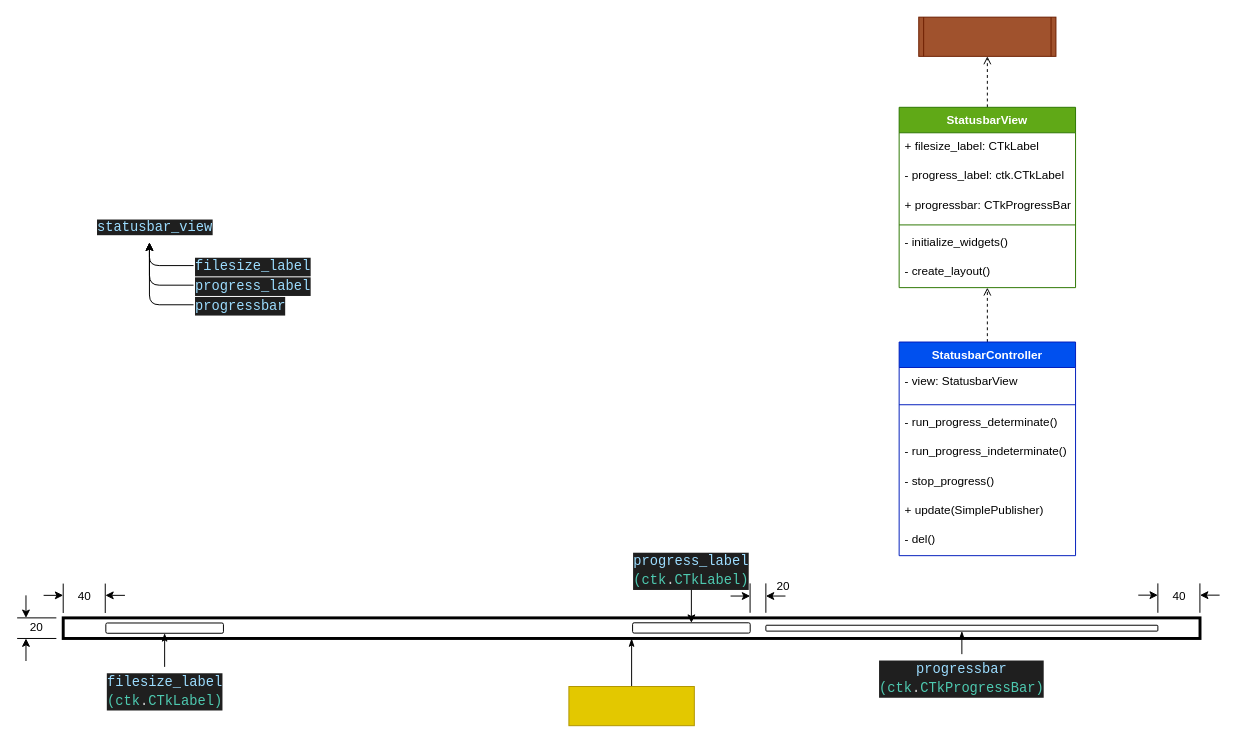
Some shapes in this 1245 by 743 pixel diagram are drawn without their labels. The shapes that lost their labels are listed below. From the top down, each one's centre as x and y in pixels, then its label:
At (987,36): "StatusbarConfig".
At (631,706): "statusbar_view ( StatusbarView)".
